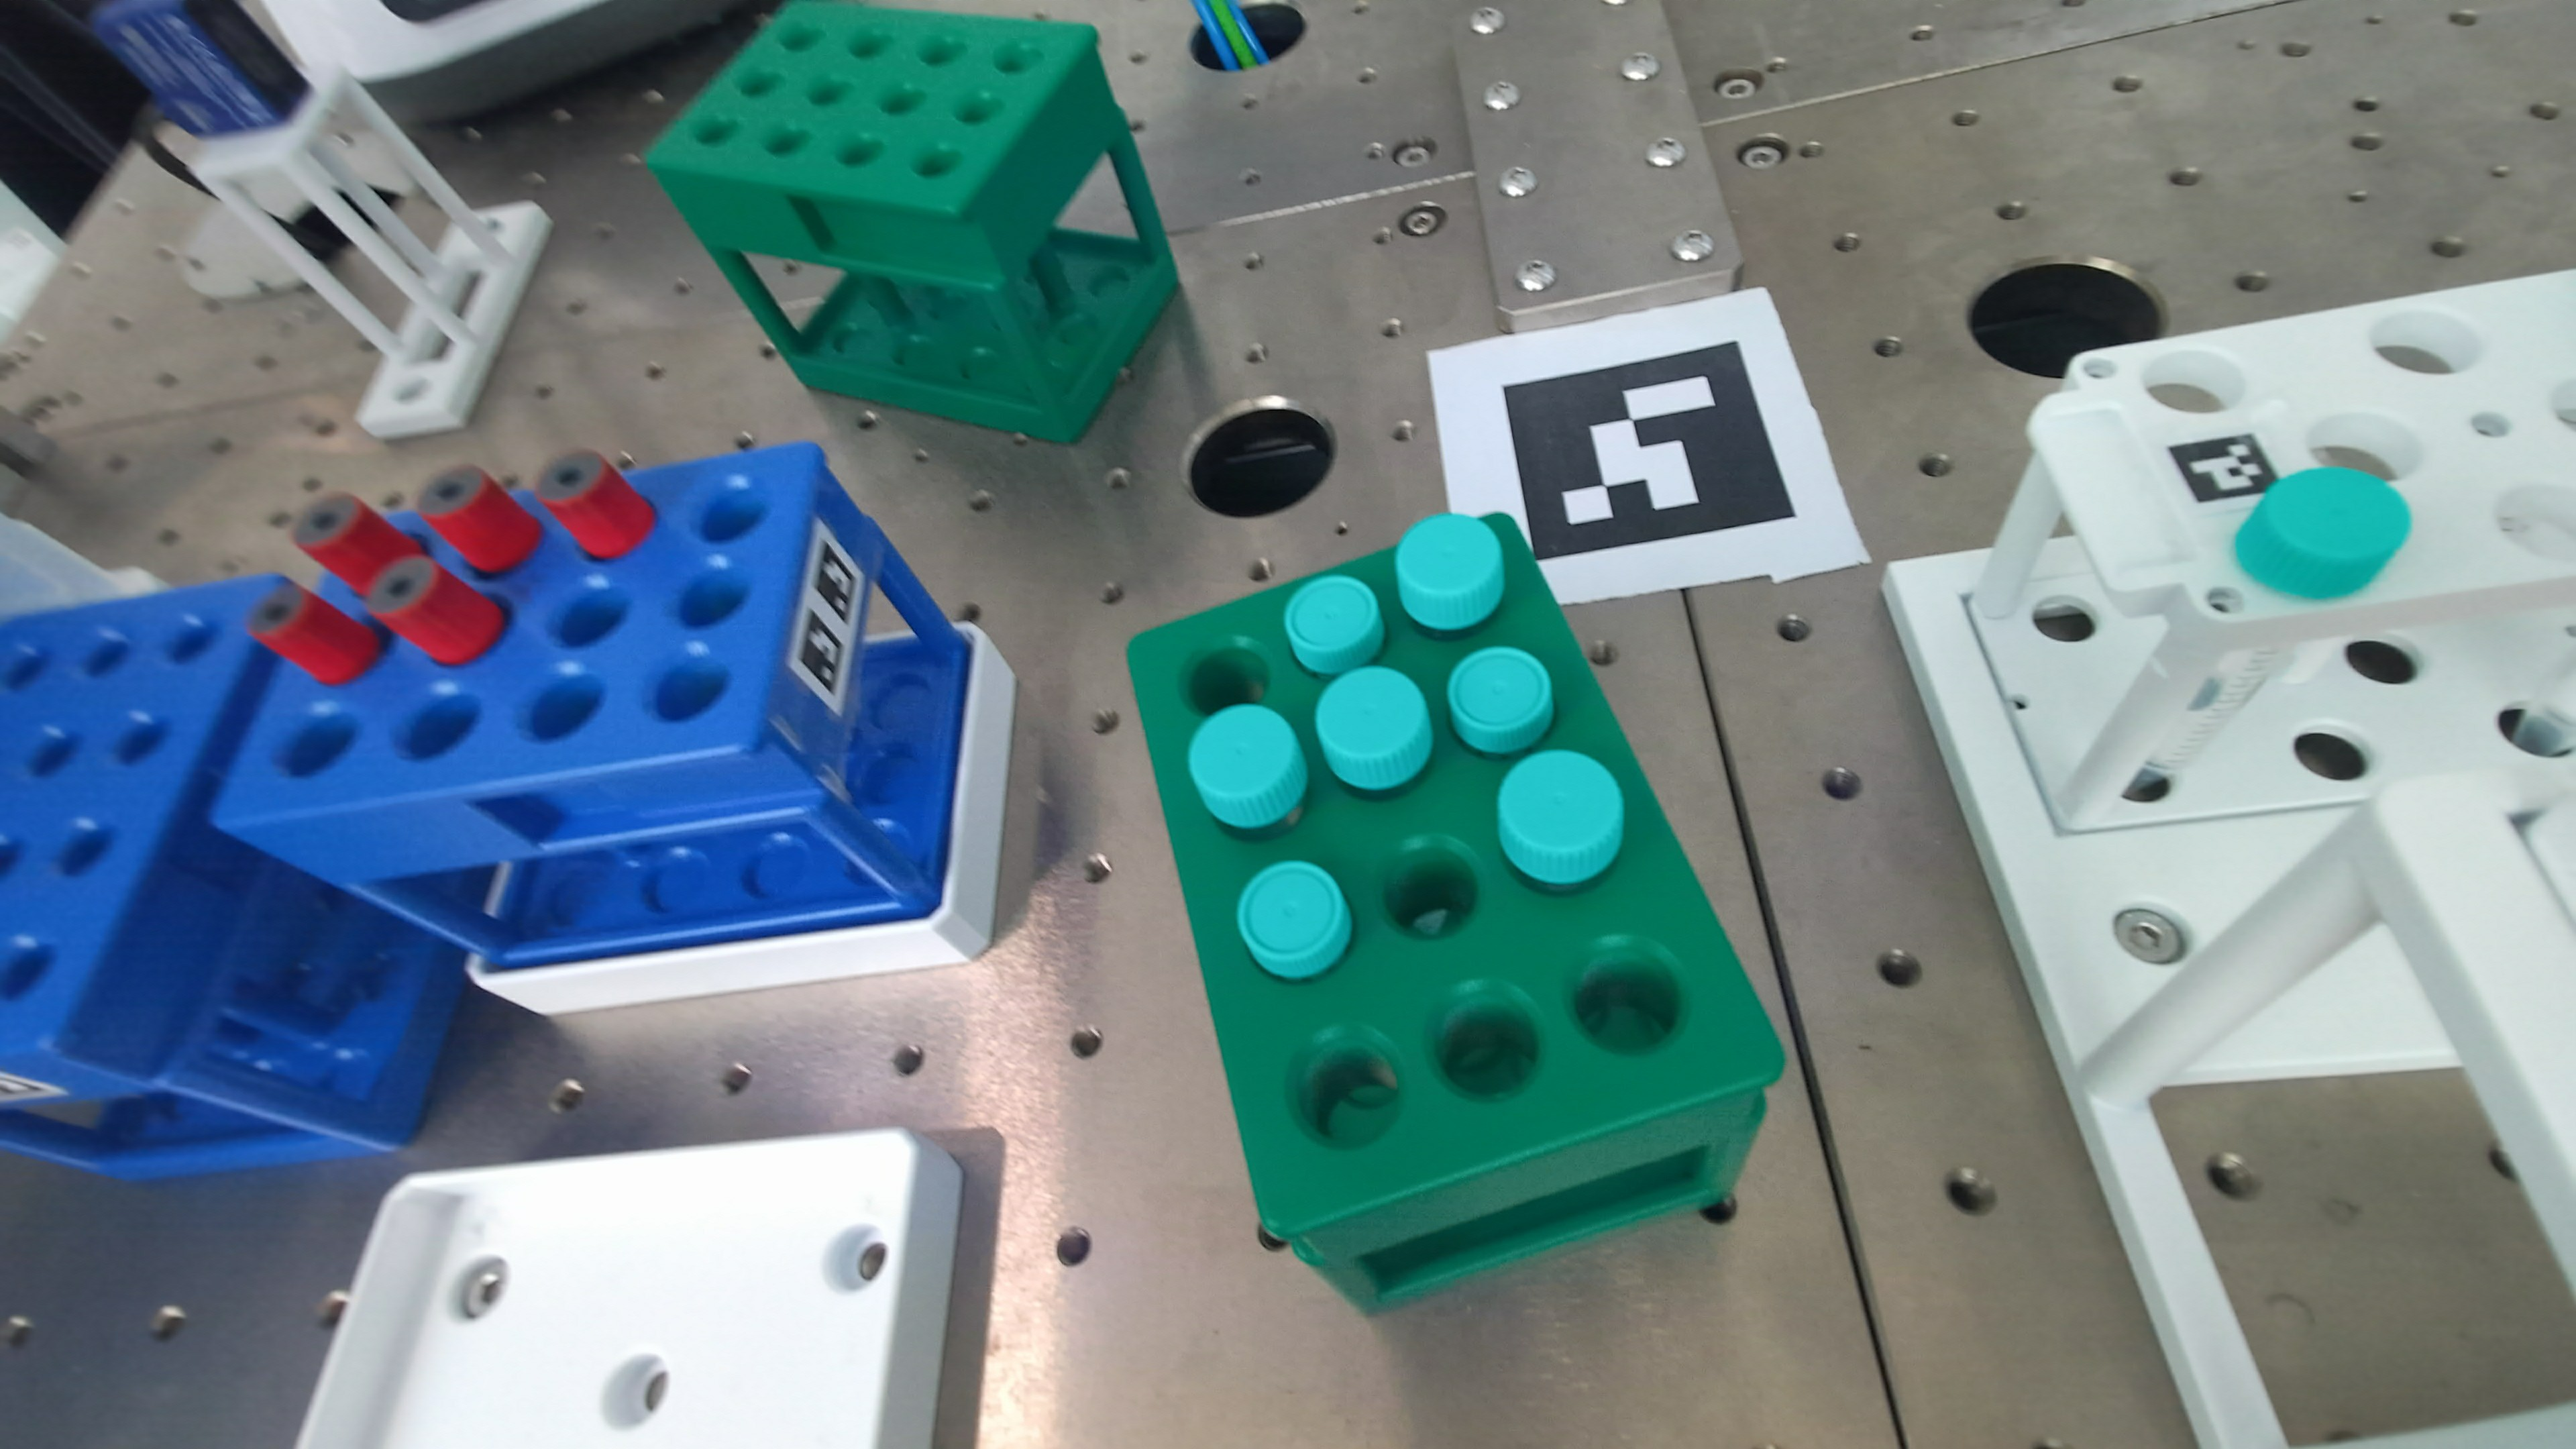10ML_centrifuge_tube: (2157, 467, 2411, 766), (1499, 750, 1624, 886), (1189, 704, 1307, 830), (1316, 667, 1433, 791), (1396, 513, 1504, 632)
10ML_sorting_tube_rack: (212, 442, 971, 970), (0, 577, 460, 1178)
5ML_centrifuge_tube: (1237, 862, 1352, 980), (1447, 648, 1553, 755), (1284, 575, 1384, 676)
5ML_sorting_tube_rack: (1129, 517, 1785, 1309), (648, 5, 1177, 441)
blood_tube: (366, 556, 506, 665), (248, 582, 380, 685), (292, 494, 425, 594), (418, 465, 541, 573), (536, 449, 655, 559)
dispensing_tube_rack: (1886, 271, 2576, 1445)
sorting_tube_rack_base: (467, 626, 1016, 1016), (301, 1131, 961, 1447)
